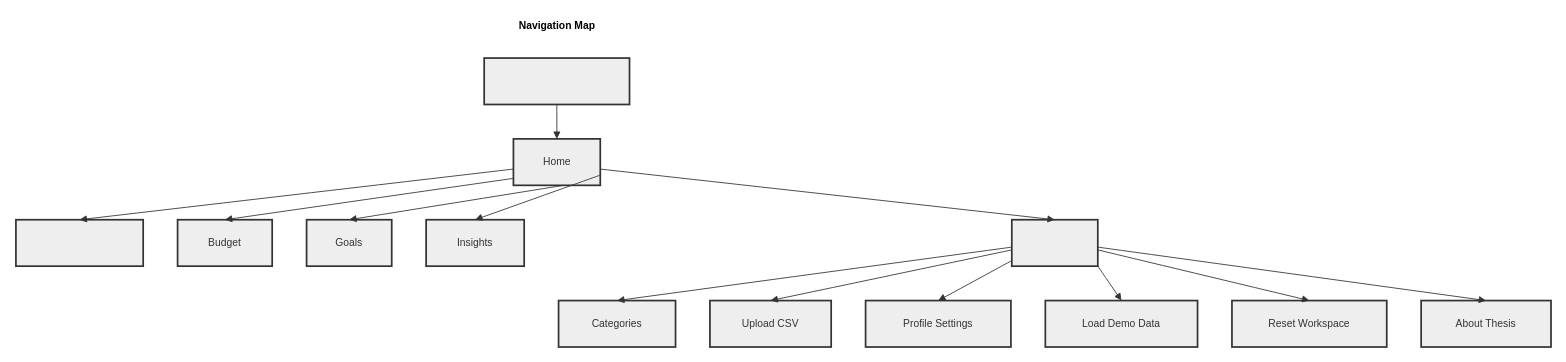
This 1566x362 diagram has some shape labels left out. Here are the shapes that lost their labels. From the top down, the centre of each, then its label:
[556,81]: Login / Sign Up
[79,242]: Transactions
[1054,242]: Setup
